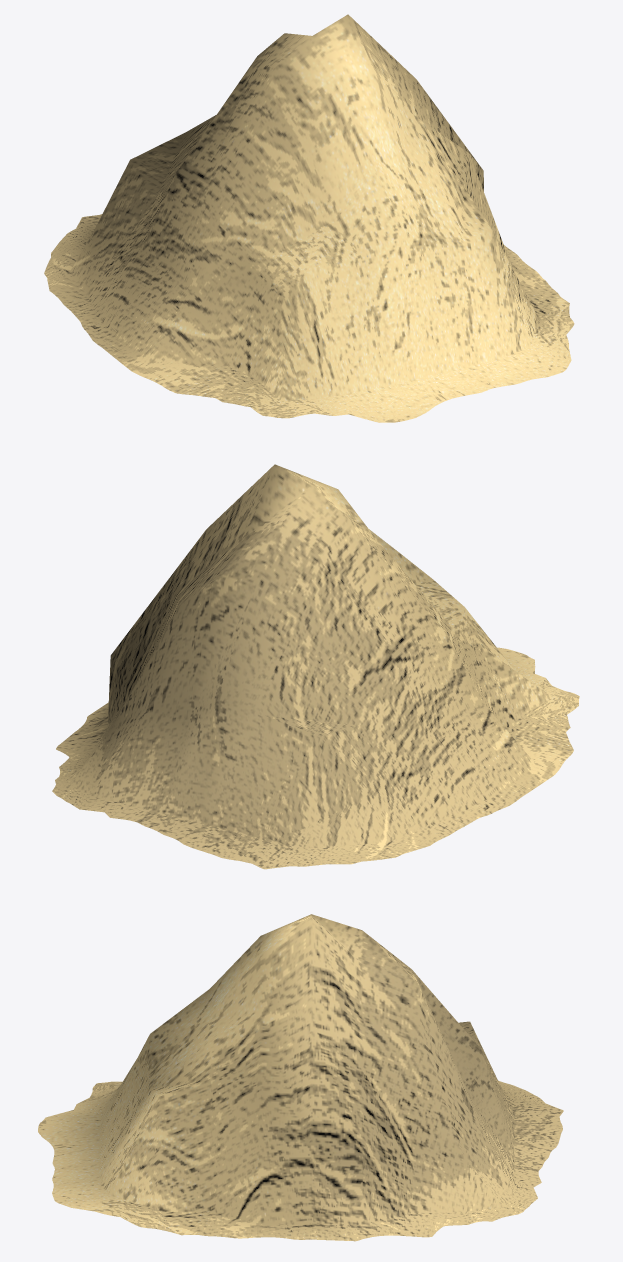
Rendered from SandPile.fbx.
3 views of the same model, one above another, from view 1: azimuth 30°, elevation 25°; view 2: azimuth 150°, elevation 25°; view 3: azimuth 270°, elevation 25° (orthographic). The views are drawn at different scales.
Parts seen in each view (by area): view 1: pPlane1; view 2: pPlane1; view 3: pPlane1.
Part boxes in pixels (x1,y1,x2,y2): pPlane1: (44, 14, 574, 422); pPlane1: (52, 464, 579, 869); pPlane1: (38, 914, 563, 1241).
Size of the model in its own units: 317 by 195 by 416.
